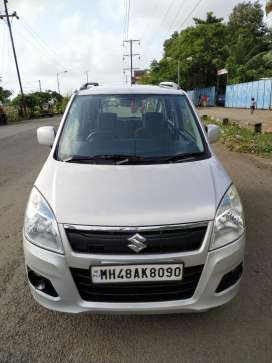license_plate: (83, 264, 190, 283)
